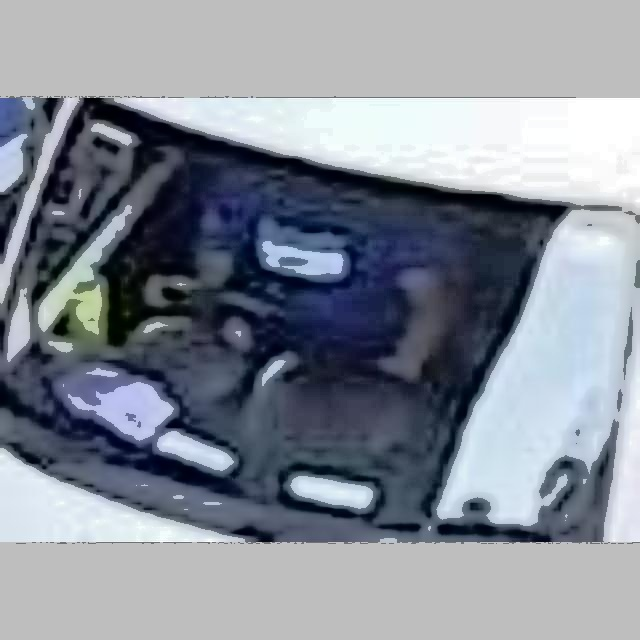tidak-pakai: (178, 193, 444, 388)
